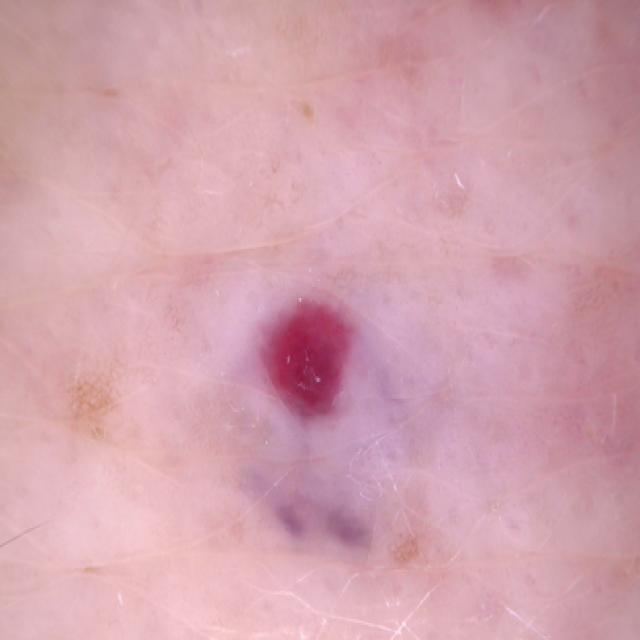Vascular Lesions: (256, 277, 369, 434)
